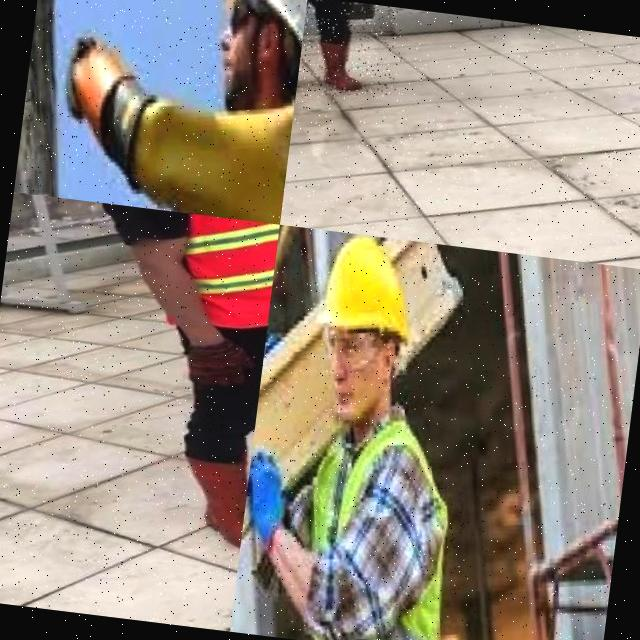boots: (174, 435, 253, 565), (314, 35, 373, 95)
helmet: (298, 228, 426, 362), (196, 0, 307, 120)
vest: (140, 210, 280, 342)
